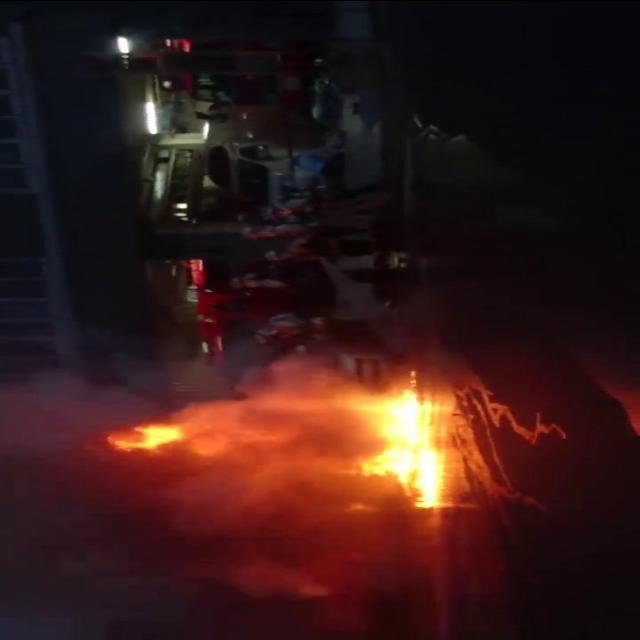Fire: (357, 387, 441, 507), (110, 422, 178, 452)
